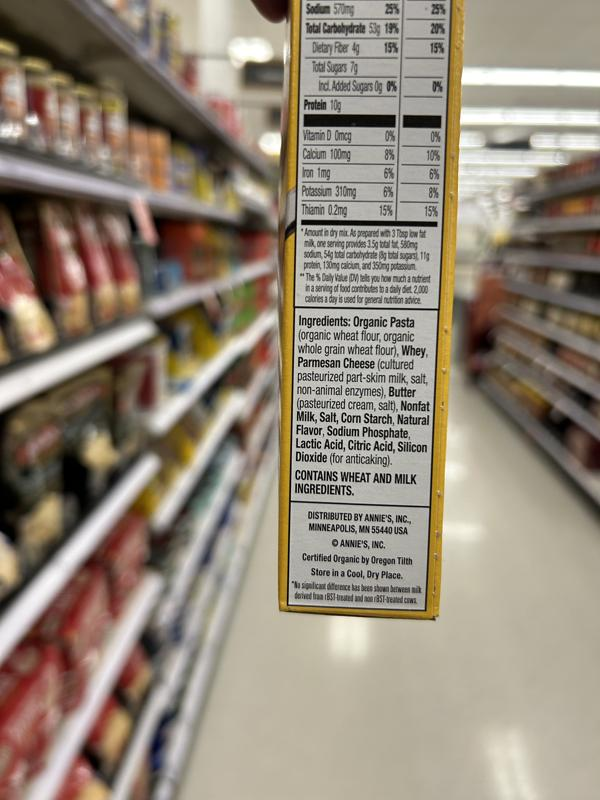ingredients: (293, 313, 432, 468)
